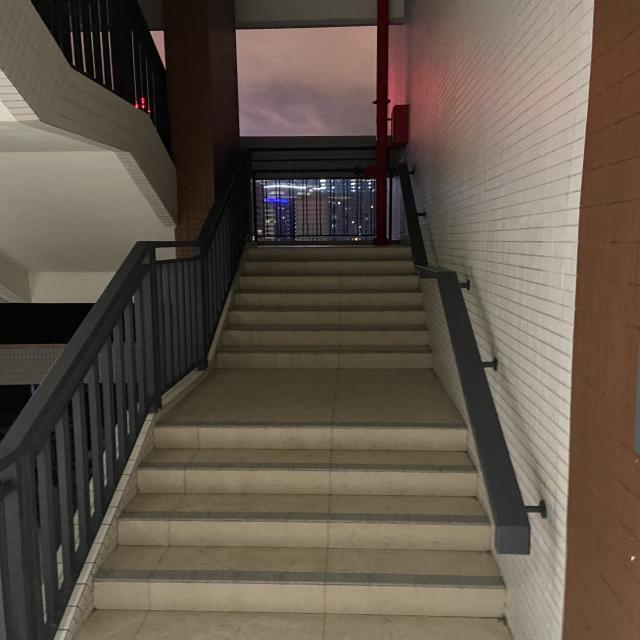Stairs: (79, 412, 532, 626), (193, 223, 459, 394)
